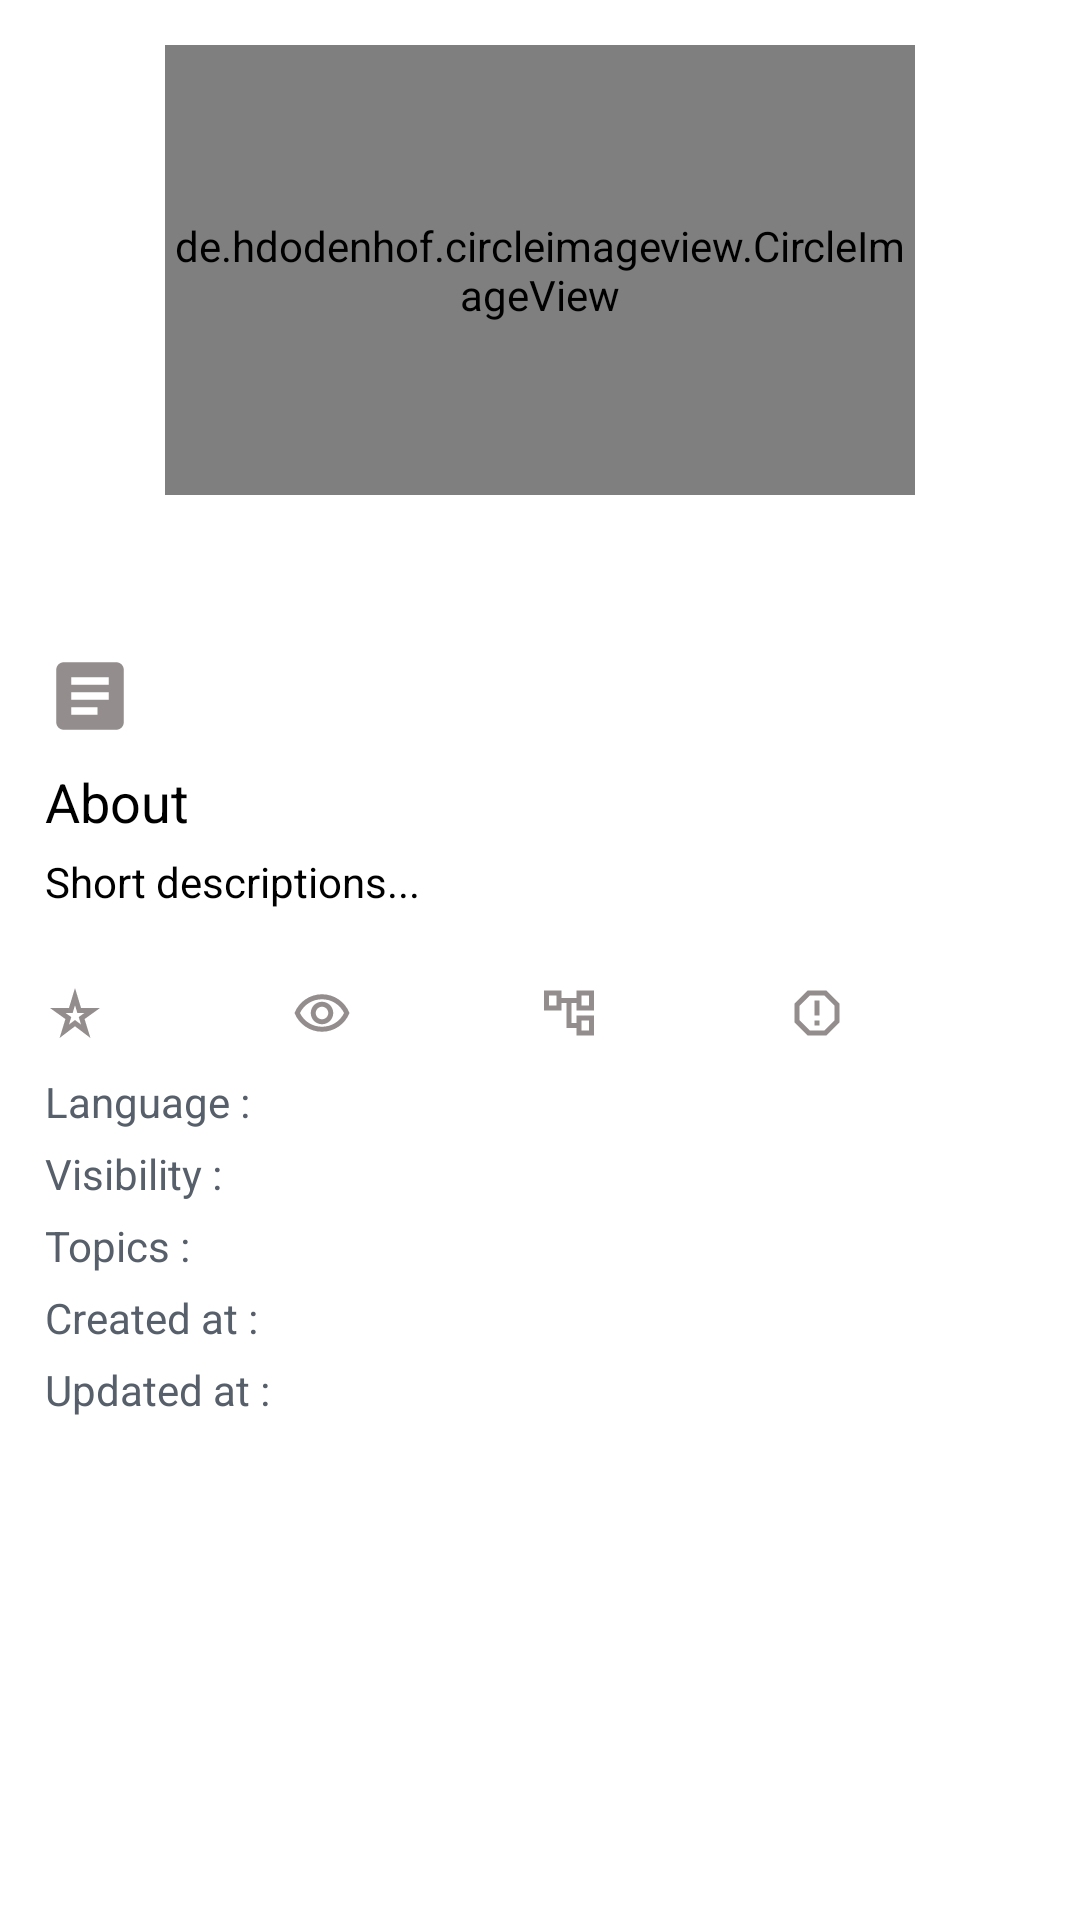

Icons on this 1080×1920 Android screen, each with its box as BBox(x1, y1, x2, y2):
article: BBox(56, 662, 124, 730)
eye: BBox(294, 994, 350, 1032)
frok: BBox(544, 990, 594, 1036)
issue: BBox(794, 990, 840, 1036)
star rate: BBox(50, 989, 100, 1038)
